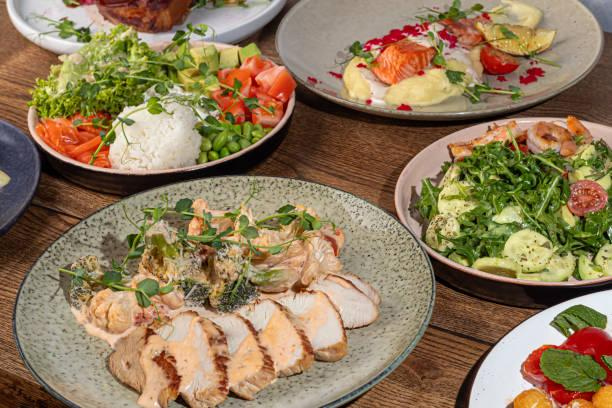Braised Crucian Carp: (11, 175, 422, 406), (28, 37, 293, 194), (278, 1, 601, 122), (392, 119, 608, 294)
